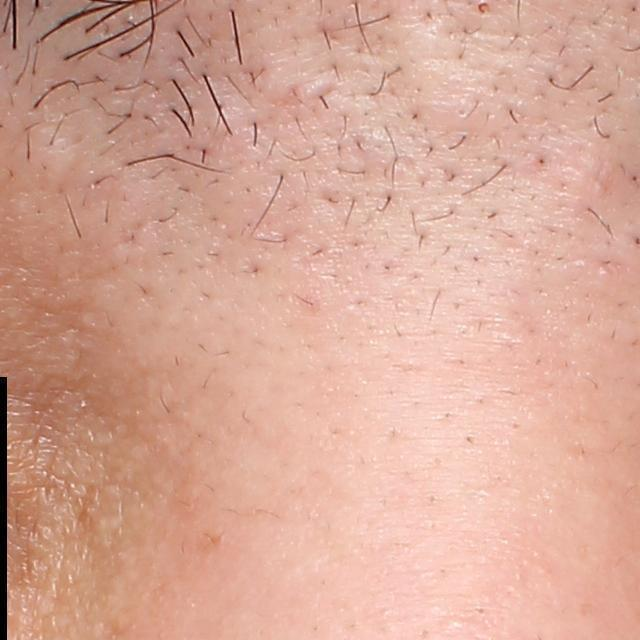hypertrophic_scar: (19, 125, 81, 190)
